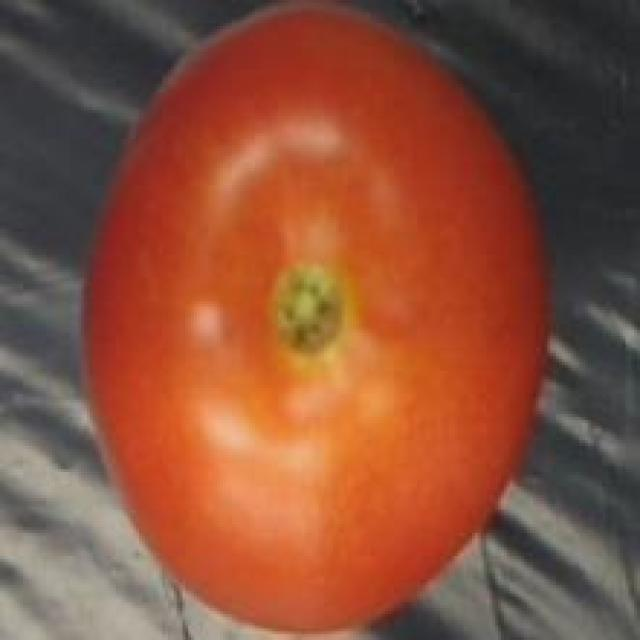overripe tomato: (72, 0, 574, 640)
